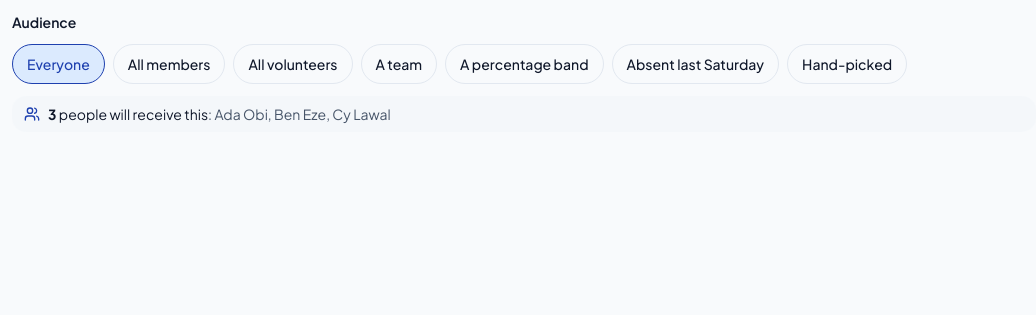
Test case: AudienceBuilder › counts exactly the people the audience reaches
The width and height of the screenshot is (1036, 315).
Click the radio button labelled "All volunteers": (293, 64) x1=233 y1=44 x2=352 y2=84
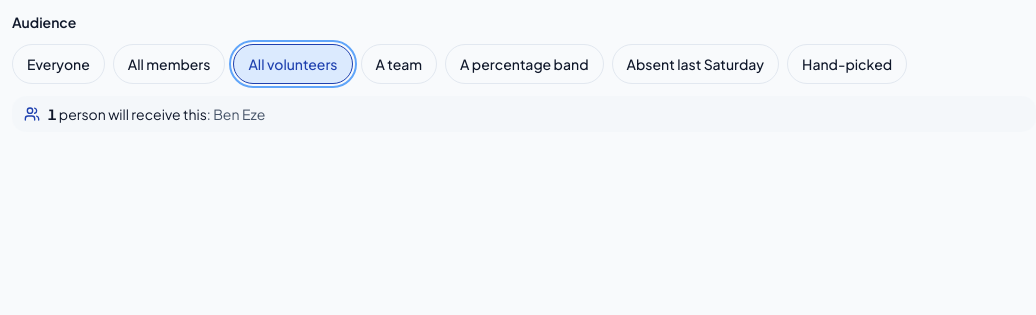
Result: the element with test id "audience-count" reads "1 person will receive this: Ben Eze" at x1=12 y1=96 x2=1035 y2=132
Click the radio button labelled "A percentage band": (524, 64) x1=445 y1=44 x2=604 y2=84
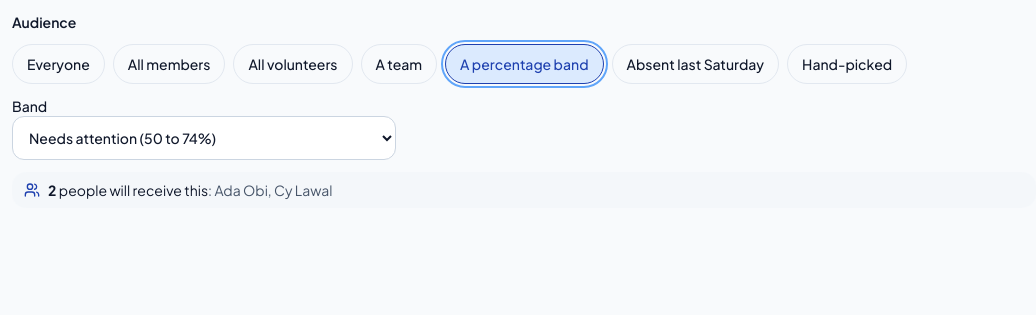
Result: the element with test id "audience-count" shows "2 people" at x1=12 y1=172 x2=1035 y2=208
Click the radio button labelled "Absent last Saturday": (695, 64) x1=612 y1=44 x2=779 y2=84
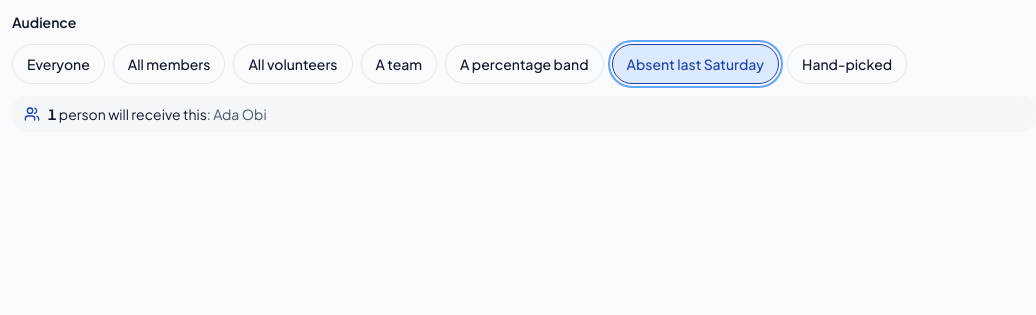
Result: the element with test id "audience-count" reads "1 person will receive this: Ada Obi" at x1=12 y1=96 x2=1035 y2=132
Click the radio button labelled "Hand-picked": (847, 64) x1=787 y1=44 x2=907 y2=84
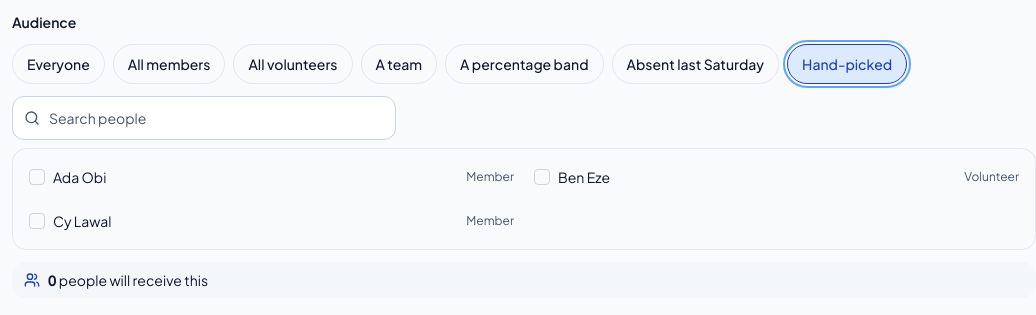
Result: the element with test id "audience-count" shows "0 people" at x1=12 y1=262 x2=1035 y2=298
Click the checkbox named "Cy Lawal" next to "Cy Lawal": (37, 221) x1=29 y1=213 x2=45 y2=229
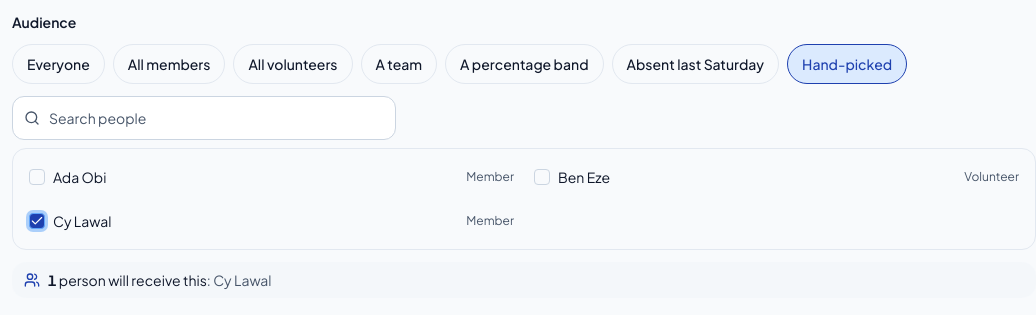
Result: the element with test id "audience-count" reads "1 person will receive this: Cy Lawal" at x1=12 y1=262 x2=1035 y2=298
